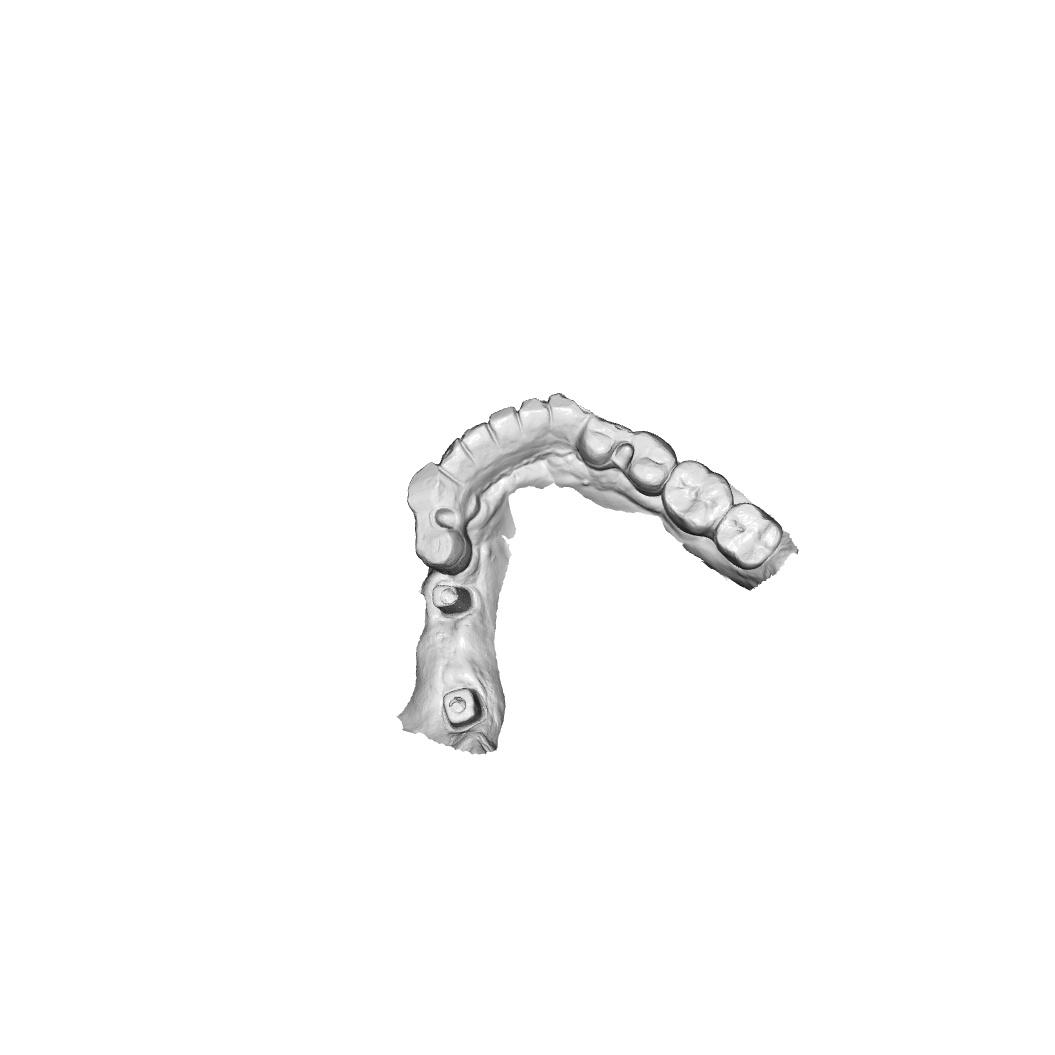abutment: (436, 685, 490, 736), (429, 578, 476, 618)
canine: (403, 461, 463, 519), (547, 392, 591, 444)
incisor: (517, 397, 551, 433), (487, 406, 518, 442), (461, 422, 490, 454), (437, 438, 465, 471)
molar: (661, 460, 735, 537), (713, 502, 784, 570)
premolar: (624, 429, 678, 498), (412, 525, 474, 576), (576, 415, 629, 471)
